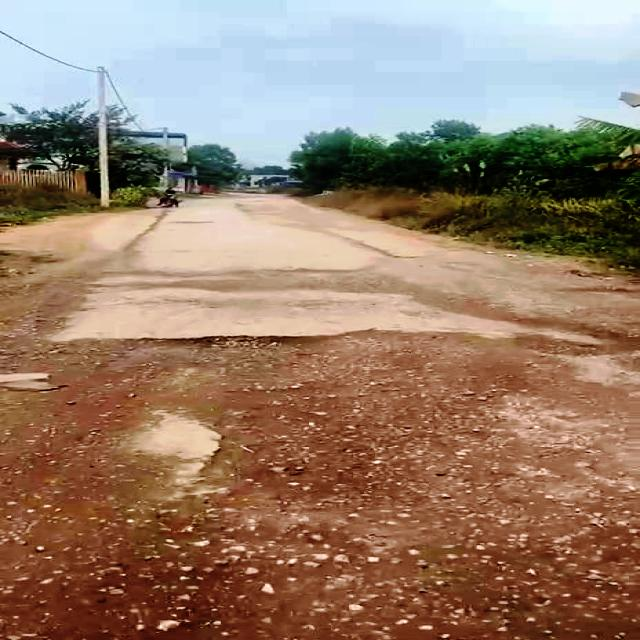pothole: (172, 412, 340, 505), (120, 333, 341, 363), (504, 330, 624, 360)
